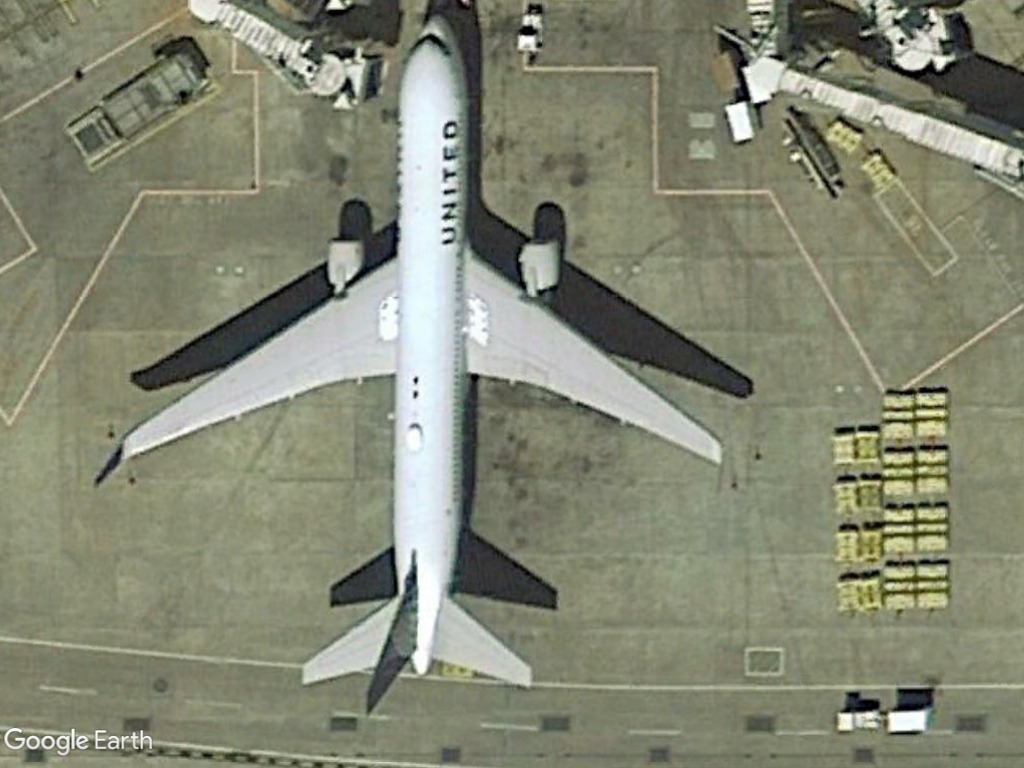airliner: (98, 11, 729, 718)
